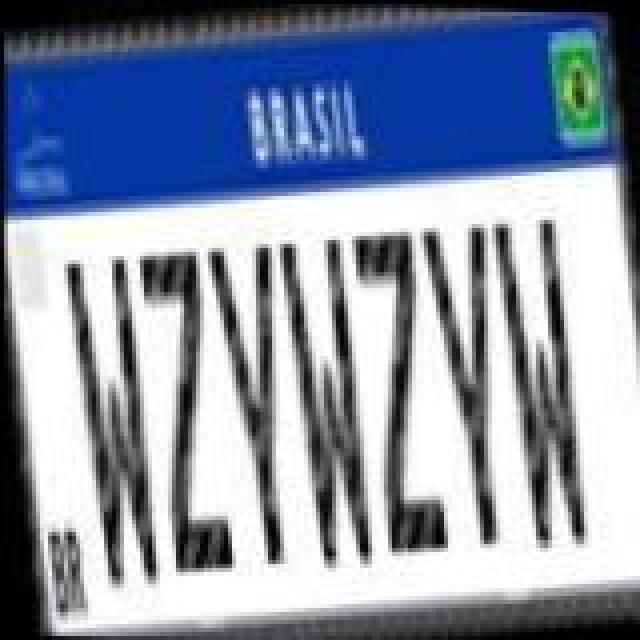W: (482, 214, 594, 558), (58, 252, 170, 592), (270, 234, 382, 574)
Y: (202, 238, 314, 570), (412, 218, 524, 550)
Z: (132, 246, 240, 578), (344, 224, 452, 556)
